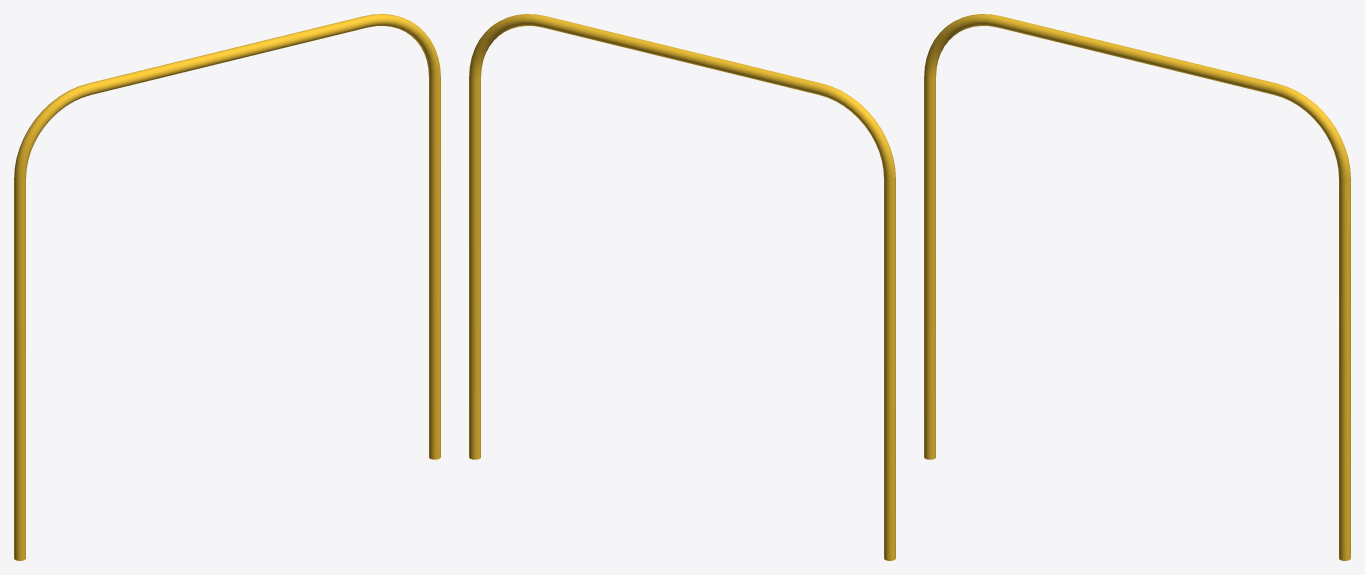
Rendered from port.dae.
3 renders of one model, left to right at view 1: azimuth 30°, elevation 25°; view 2: azimuth 150°, elevation 25°; view 3: azimuth 330°, elevation 25°, orthographic.
Visible parts, largest first — view 1: SketchUp; view 2: SketchUp; view 3: SketchUp.
Part boxes in pixels (x1,y1,x2,y2): SketchUp: (14,14,440,560); SketchUp: (469,14,895,560); SketchUp: (924,14,1350,560).
Bounding box in the file's own units: 19.37 × 0.4724 × 19.92.
